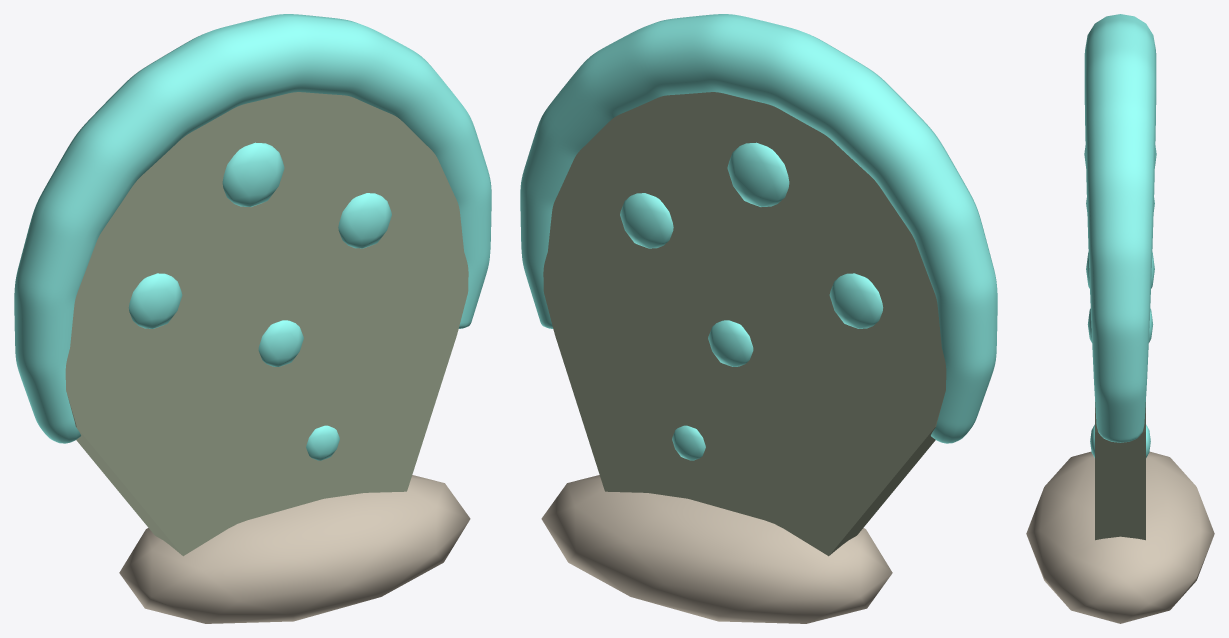
The model's file is creature.glowcrest.glb.
3 views of the same model, side by side, from view 1: azimuth 30°, elevation 25°; view 2: azimuth 150°, elevation 25°; view 3: azimuth 270°, elevation 25° (orthographic). The views are drawn at different scales.
Visible parts, largest first — view 1: Shell, Glow, Skin; view 2: Shell, Glow, Skin; view 3: Glow, Skin, Shell.
Part boxes in pixels (box(x1,y1,x2,y2)): Shell: box(65, 92, 468, 556); Glow: box(14, 14, 491, 460); Skin: box(119, 475, 470, 623); Shell: box(543, 92, 946, 556); Glow: box(520, 14, 997, 460); Skin: box(541, 475, 892, 623); Glow: box(1084, 14, 1156, 457); Skin: box(1026, 451, 1214, 623); Shell: box(1095, 402, 1145, 540).
Size of the model in its own units: 0.6703 by 0.8061 by 0.26.
